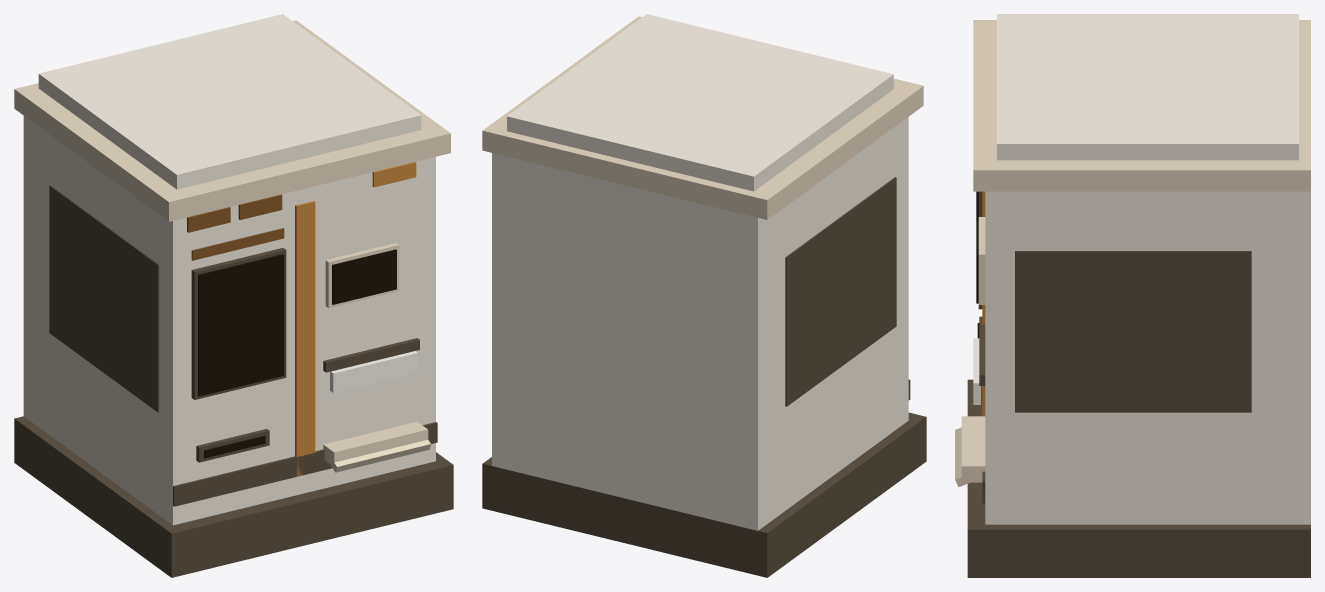
The model's file is renewal_machine.obj.
3 views of the same model, side by side, from view 1: azimuth 30°, elevation 25°; view 2: azimuth 150°, elevation 25°; view 3: azimuth 270°, elevation 25° (orthographic). The views are drawn at different scales.
Parts seen in each view (by area): view 1: renewal_machine_e01, renewal_machine_e03, renewal_machine_e00, renewal_machine_e21, renewal_machine_e02, renewal_machine_e07, renewal_machine_e04, renewal_machine_e05, renewal_machine_e12, renewal_machine_e13, renewal_machine_e06, renewal_machine_e10 (+8 smaller); view 2: renewal_machine_e01, renewal_machine_e03, renewal_machine_e00, renewal_machine_e21, renewal_machine_e02; view 3: renewal_machine_e01, renewal_machine_e03, renewal_machine_e22, renewal_machine_e00, renewal_machine_e02, renewal_machine_e13, renewal_machine_e11, renewal_machine_e15, renewal_machine_e10.
Part boxes in pixels (<box>): renewal_machine_e01: <box>23,116,435,525</box>; renewal_machine_e03: <box>38,14,421,189</box>; renewal_machine_e00: <box>14,416,453,577</box>; renewal_machine_e21: <box>49,185,159,412</box>; renewal_machine_e02: <box>14,20,450,221</box>; renewal_machine_e07: <box>198,254,284,396</box>; renewal_machine_e04: <box>295,201,315,476</box>; renewal_machine_e05: <box>173,422,437,506</box>; renewal_machine_e12: <box>332,249,396,304</box>; renewal_machine_e13: <box>323,421,428,465</box>; renewal_machine_e06: <box>191,247,286,399</box>; renewal_machine_e10: <box>330,351,417,392</box>; renewal_machine_e01: <box>492,117,908,530</box>; renewal_machine_e03: <box>507,14,893,191</box>; renewal_machine_e00: <box>482,412,926,577</box>; renewal_machine_e21: <box>785,177,896,406</box>; renewal_machine_e02: <box>482,16,923,219</box>; renewal_machine_e01: <box>985,191,1310,524</box>; renewal_machine_e03: <box>997,14,1298,160</box>; renewal_machine_e22: <box>1015,251,1251,412</box>; renewal_machine_e00: <box>967,379,1310,577</box>; renewal_machine_e02: <box>973,20,1310,191</box>; renewal_machine_e13: <box>961,416,985,482</box>; renewal_machine_e11: <box>978,217,985,304</box>; renewal_machine_e15: <box>955,427,982,487</box>; renewal_machine_e10: <box>973,338,980,404</box>.
Size of the model in its own units: 0.75 by 0.9875 by 0.7512.
